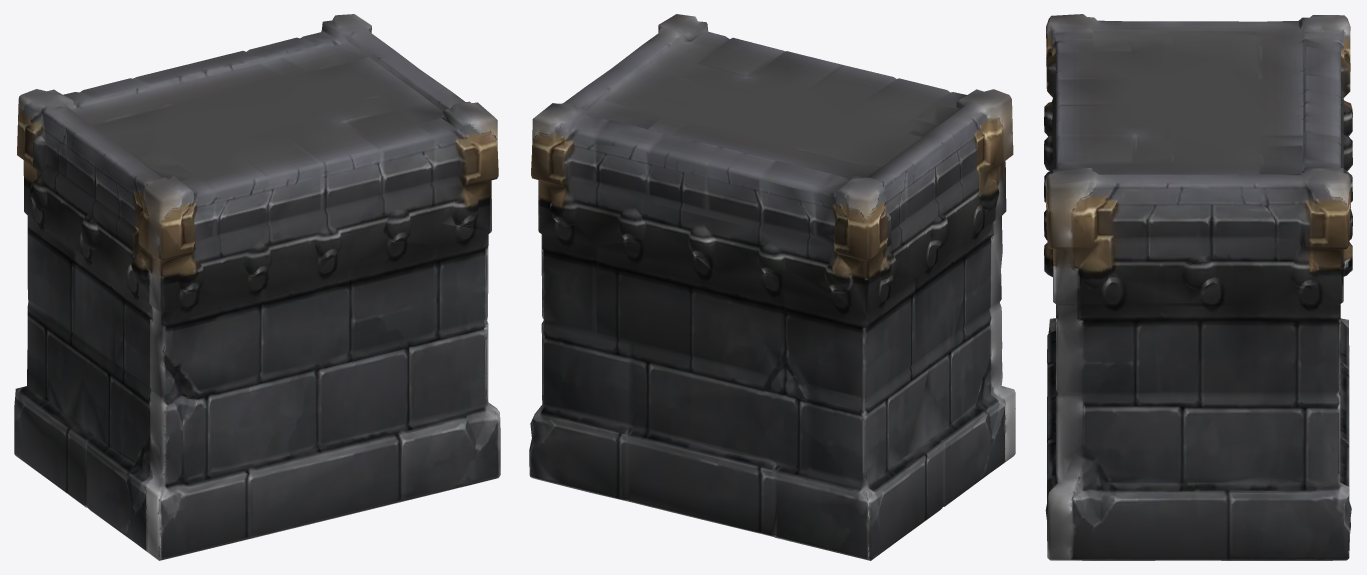
Rendered from SM_Tripo_InfernoPlatformBlockB.glb.
The picture shows the model from 3 angles, left to right: view 1: azimuth 30°, elevation 25°; view 2: azimuth 150°, elevation 25°; view 3: azimuth 270°, elevation 25°; orthographic projection. The views are drawn at different scales.
Parts seen in each view (by area): view 1: SM_Tripo_InfernoPlatformBlockB_LOD0; view 2: SM_Tripo_InfernoPlatformBlockB_LOD0; view 3: SM_Tripo_InfernoPlatformBlockB_LOD0.
Boxes of the visible parts, x1=… form: SM_Tripo_InfernoPlatformBlockB_LOD0: x1=14, y1=14, x2=500, y2=560; SM_Tripo_InfernoPlatformBlockB_LOD0: x1=529, y1=14, x2=1015, y2=560; SM_Tripo_InfernoPlatformBlockB_LOD0: x1=1044, y1=14, x2=1352, y2=560.
Size of the model in its own units: 2.87 by 2.89 by 2.14.
Materials: 1 (1 with a texture image).
